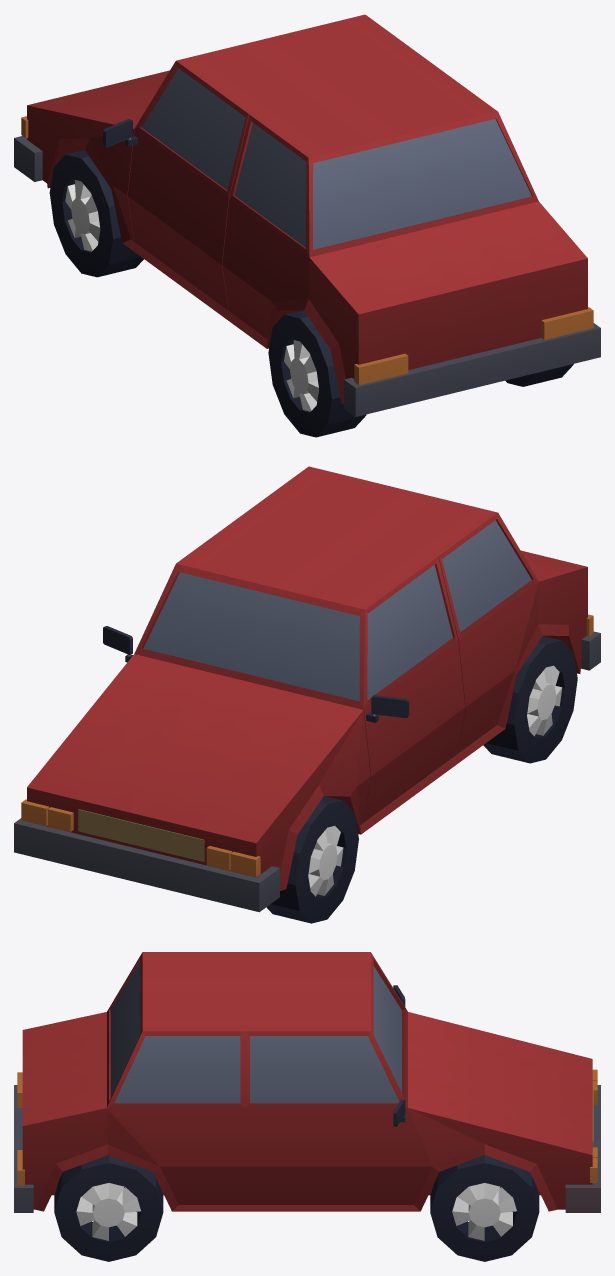
The model's file is Mobil Merah.fbx.
3 views of the same model, one above another, from view 1: azimuth 30°, elevation 25°; view 2: azimuth 150°, elevation 25°; view 3: azimuth 270°, elevation 25° (orthographic). The views are drawn at different scales.
Visible parts, largest first — view 1: Mobil Merah; view 2: Mobil Merah; view 3: Mobil Merah.
Part boxes in pixels (x1=…): Mobil Merah: x1=14, y1=14, x2=600, y2=437; Mobil Merah: x1=14, y1=466, x2=600, y2=923; Mobil Merah: x1=14, y1=952, x2=600, y2=1261.
Bounding box in the file's own units: 1.32 × 1.05 × 2.55.
